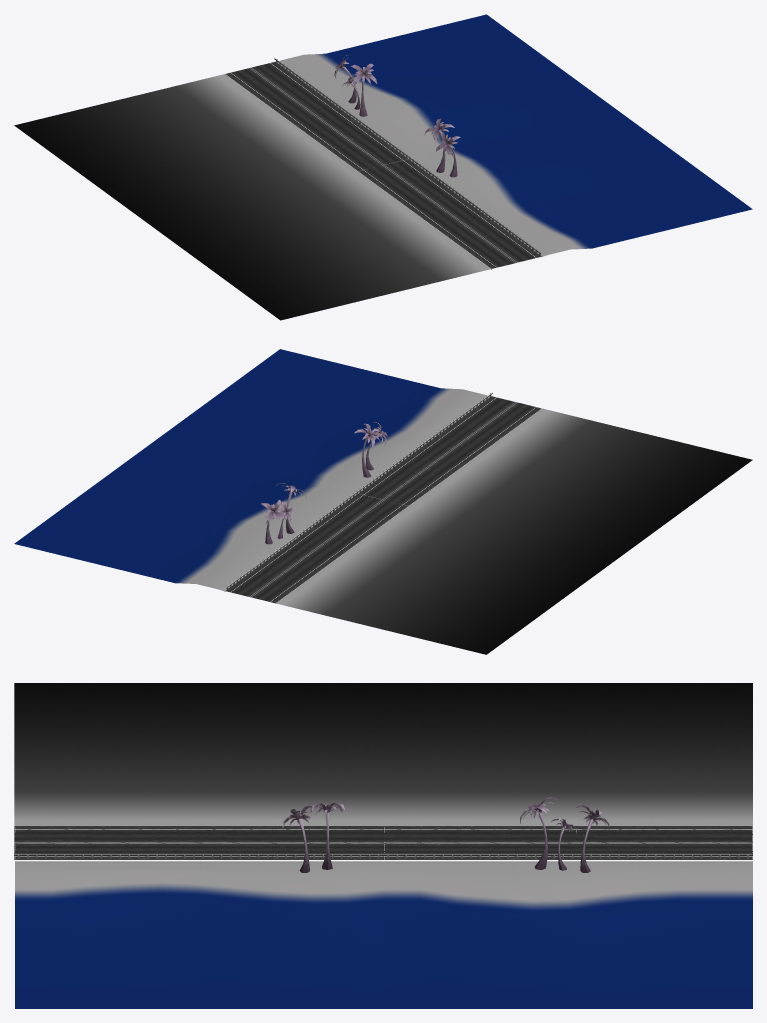
The model's file is miami_road_011.FBX.
3 renders of one model, top to bottom at view 1: azimuth 30°, elevation 25°; view 2: azimuth 150°, elevation 25°; view 3: azimuth 270°, elevation 25°, orthographic. The views are drawn at different scales.
Visible parts, largest first — view 1: Plane058, Plane061, Plane060, Plane059, Plane063, Plane062, Group014, Group013; view 2: Plane058, Plane061, Plane060, Plane059, Plane063, Plane062, Group014, Group013; view 3: Plane060, Plane059, Plane061, Plane058, Plane062, Plane063, Group014, Group013, palm 034.
Part boxes in pixels (left/top/right/bottom): Plane058: left=14, top=74, right=357, bottom=222; Plane061: left=147, top=171, right=491, bottom=320; Plane060: left=410, top=112, right=752, bottom=256; Plane059: left=277, top=14, right=619, bottom=158; Plane063: left=225, top=61, right=408, bottom=171; Plane062: left=358, top=159, right=541, bottom=268; Group014: left=407, top=156, right=540, bottom=255; Group013: left=274, top=58, right=407, bottom=158; Plane058: left=275, top=506, right=619, bottom=654; Plane061: left=409, top=408, right=752, bottom=557; Plane060: left=147, top=349, right=489, bottom=493; Plane059: left=14, top=446, right=356, bottom=591; Plane063: left=225, top=493, right=407, bottom=603; Plane062: left=358, top=396, right=541, bottom=505; Group014: left=359, top=392, right=492, bottom=492; Group013: left=226, top=490, right=359, bottom=590; Plane060: left=15, top=861, right=384, bottom=1008; Plane059: left=384, top=861, right=752, bottom=1008; Plane061: left=14, top=683, right=383, bottom=825; Plane058: left=383, top=683, right=752, bottom=825; Plane062: left=14, top=826, right=383, bottom=859; Plane063: left=383, top=826, right=752, bottom=859; Group014: left=14, top=853, right=383, bottom=859; Group013: left=383, top=853, right=752, bottom=859; palm 034: left=520, top=797, right=557, bottom=869.
Bounding box in the file's own units: 3277 × 348 × 3201.
